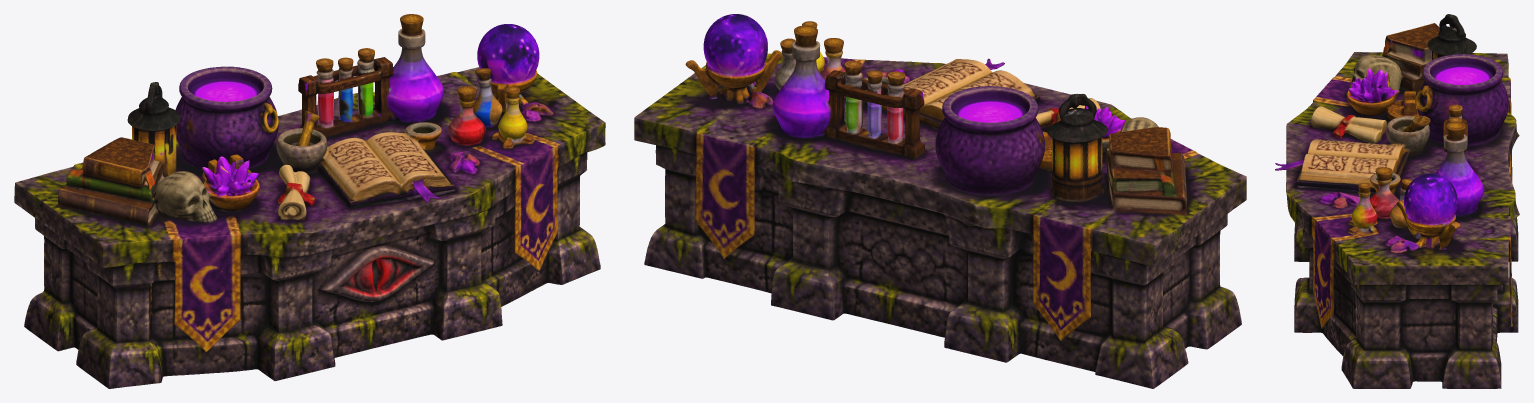
File: mesasapo.glb
The picture shows the model from 3 angles, left to right: view 1: azimuth 30°, elevation 25°; view 2: azimuth 150°, elevation 25°; view 3: azimuth 270°, elevation 25°; orthographic projection. The views are drawn at different scales.
Size of the model in its own units: 1.9 by 0.8644 by 0.9211.
Materials: 1 (1 with a texture image).
